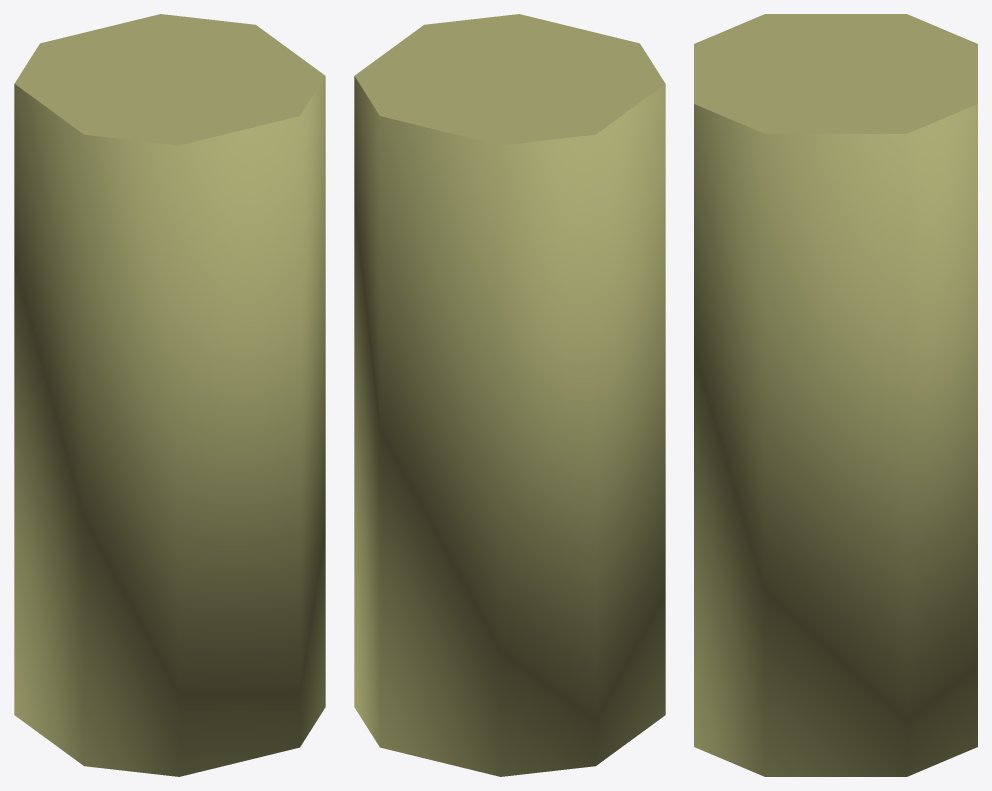
The model's file is glass-rod.glb.
3 renders of one model, left to right at view 1: azimuth 30°, elevation 25°; view 2: azimuth 150°, elevation 25°; view 3: azimuth 270°, elevation 25°, orthographic.
Visible parts, largest first — view 1: glass-rod; view 2: glass-rod; view 3: glass-rod.
Part boxes in pixels (<box>): glass-rod: <box>14,14,325,776</box>; glass-rod: <box>354,14,665,776</box>; glass-rod: <box>694,14,977,776</box>.
Size of the model in its own units: 0.4 by 1 by 0.4.
